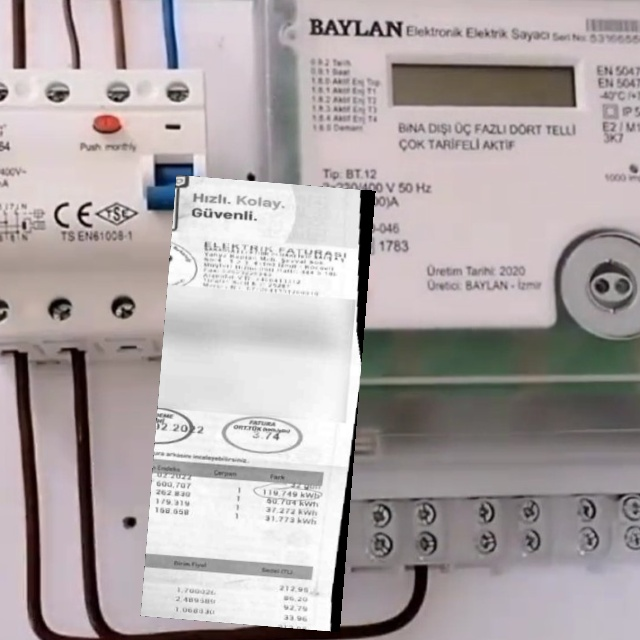electricity-bill: (140, 174, 376, 631)
